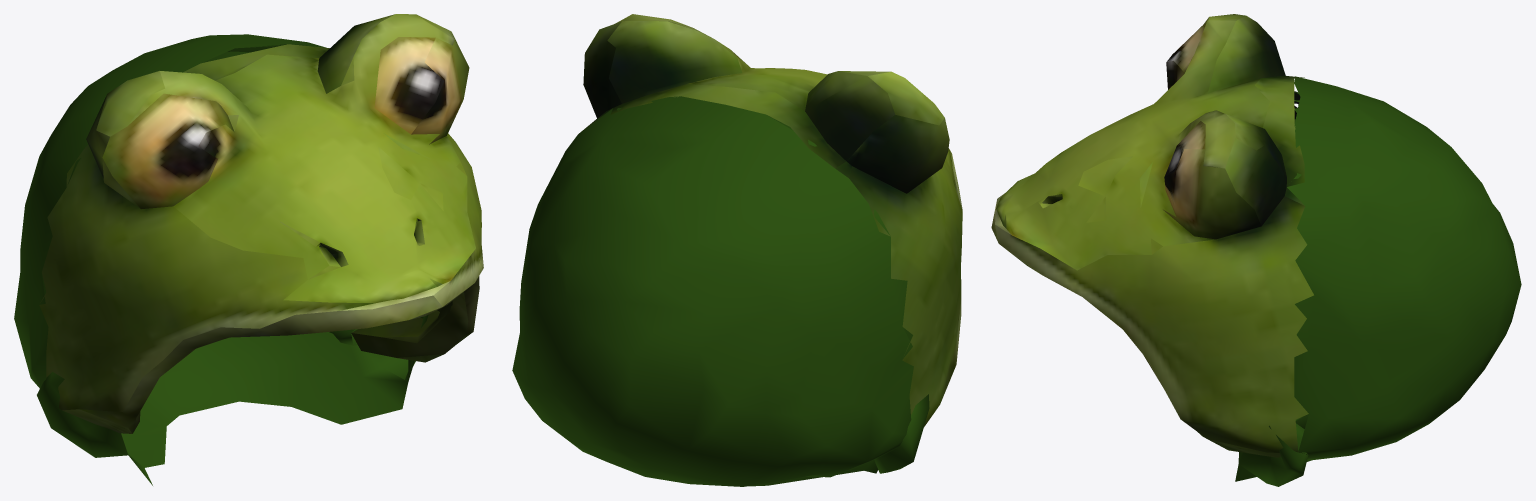
File: frog.glb
3 views of the same model, side by side, from view 1: azimuth 30°, elevation 25°; view 2: azimuth 150°, elevation 25°; view 3: azimuth 270°, elevation 25° (orthographic). The views are drawn at different scales.
Parts seen in each view (by area): view 1: geometry_0, HoodAnatomicalLining; view 2: geometry_0, HoodAnatomicalLining; view 3: geometry_0, HoodAnatomicalLining.
Boxes of the visible parts, x1,y1,x2,y2 form: geometry_0: (14, 14, 483, 433); HoodAnatomicalLining: (37, 314, 428, 485); geometry_0: (512, 14, 962, 486); HoodAnatomicalLining: (746, 115, 929, 486); geometry_0: (991, 14, 1521, 460); HoodAnatomicalLining: (1235, 119, 1311, 486).
Size of the model in its own units: 0.5088 by 0.511 by 0.6629.
Materials: 2 (1 with a texture image).
